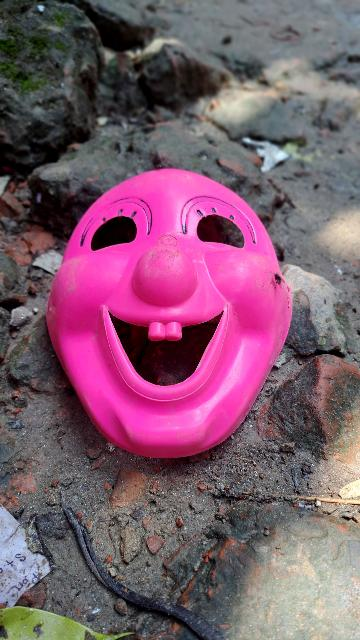hardplastic: (57, 174, 289, 454)
